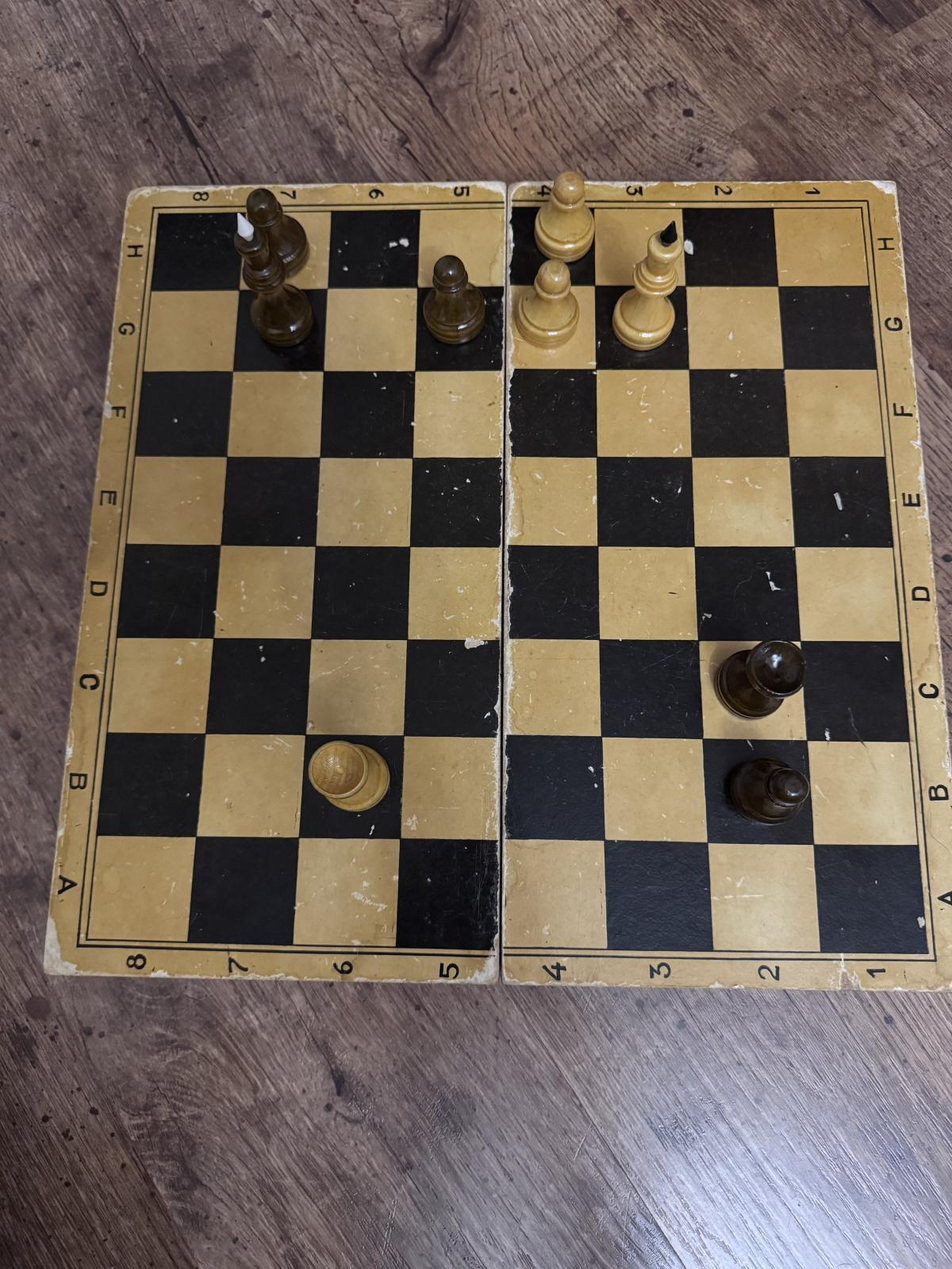Chess-Board: (86, 208, 928, 953)
